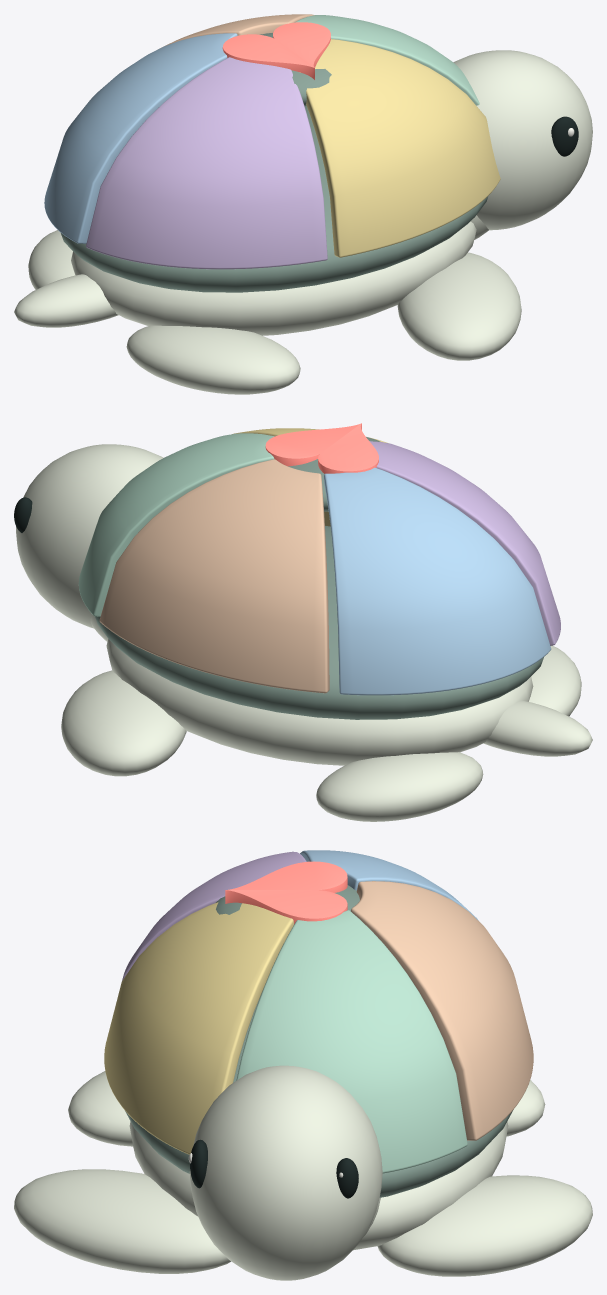
File: kenko-mascot.glb
3 renders of one model, top to bottom at view 1: azimuth 30°, elevation 25°; view 2: azimuth 150°, elevation 25°; view 3: azimuth 270°, elevation 25°, orthographic. The views are drawn at different scales.
Parts seen in each view (by area): view 1: Kenko_Shell_Sleep, Kenko_Shell_Recovery, Kenko_Head, Kenko_Body, Kenko_Shell_Hydration, Kenko_Shell_Core, Kenko_FrontLeg_Left, Kenko_BackLeg_Left, Kenko_Tail, Kenko_Heart, Kenko_Shell_Movement, Kenko_BackLeg_Right (+3 smaller); view 2: Kenko_Shell_Nutrition, Kenko_Shell_Hydration, Kenko_Body, Kenko_Head, Kenko_Shell_Core, Kenko_Shell_Movement, Kenko_FrontLeg_Right, Kenko_BackLeg_Right, Kenko_Shell_Sleep, Kenko_Tail, Kenko_Heart, Kenko_BackLeg_Left; view 3: Kenko_Shell_Movement, Kenko_Head, Kenko_Shell_Recovery, Kenko_Shell_Nutrition, Kenko_FrontLeg_Left, Kenko_FrontLeg_Right, Kenko_Body, Kenko_Heart, Kenko_Shell_Core, Kenko_Shell_Sleep, Kenko_BackLeg_Left, Kenko_Shell_Hydration (+4 smaller).
Boxes of the visible parts, x1,y1,x2,y2 form: Kenko_Shell_Sleep: (86, 57, 327, 269); Kenko_Shell_Recovery: (300, 39, 500, 257); Kenko_Head: (453, 50, 592, 230); Kenko_Body: (71, 221, 476, 335); Kenko_Shell_Hydration: (44, 33, 237, 243); Kenko_Shell_Core: (61, 106, 488, 292); Kenko_FrontLeg_Left: (397, 252, 521, 360); Kenko_BackLeg_Left: (126, 325, 300, 394); Kenko_Tail: (14, 274, 118, 327); Kenko_Heart: (222, 22, 330, 79); Kenko_Shell_Movement: (295, 15, 479, 105); Kenko_BackLeg_Right: (28, 230, 75, 289); Kenko_Shell_Nutrition: (99, 459, 329, 693); Kenko_Shell_Hydration: (324, 467, 551, 695); Kenko_Body: (106, 639, 533, 765); Kenko_Head: (16, 444, 163, 628); Kenko_Shell_Core: (95, 526, 543, 719); Kenko_Shell_Movement: (78, 433, 274, 616); Kenko_FrontLeg_Right: (61, 670, 186, 776); Kenko_BackLeg_Right: (316, 752, 483, 821); Kenko_Shell_Sleep: (369, 441, 560, 645); Kenko_Tail: (483, 700, 592, 756); Kenko_Heart: (265, 423, 378, 473); Kenko_BackLeg_Left: (528, 645, 581, 716); Kenko_Shell_Movement: (236, 910, 467, 1173); Kenko_Head: (189, 1065, 382, 1280); Kenko_Shell_Recovery: (104, 902, 293, 1154); Kenko_Shell_Nutrition: (351, 881, 533, 1140); Kenko_FrontLeg_Left: (14, 1169, 230, 1273); Kenko_FrontLeg_Right: (377, 1175, 592, 1276); Kenko_Body: (129, 1121, 508, 1250); Kenko_Heart: (225, 861, 347, 924); Kenko_Shell_Core: (125, 993, 512, 1197); Kenko_Shell_Sleep: (122, 851, 306, 980); Kenko_BackLeg_Left: (68, 1071, 132, 1146); Kenko_Shell_Hydration: (300, 850, 478, 920).
Bounding box in the file's own units: 4.09 × 1.88 × 3.18.
